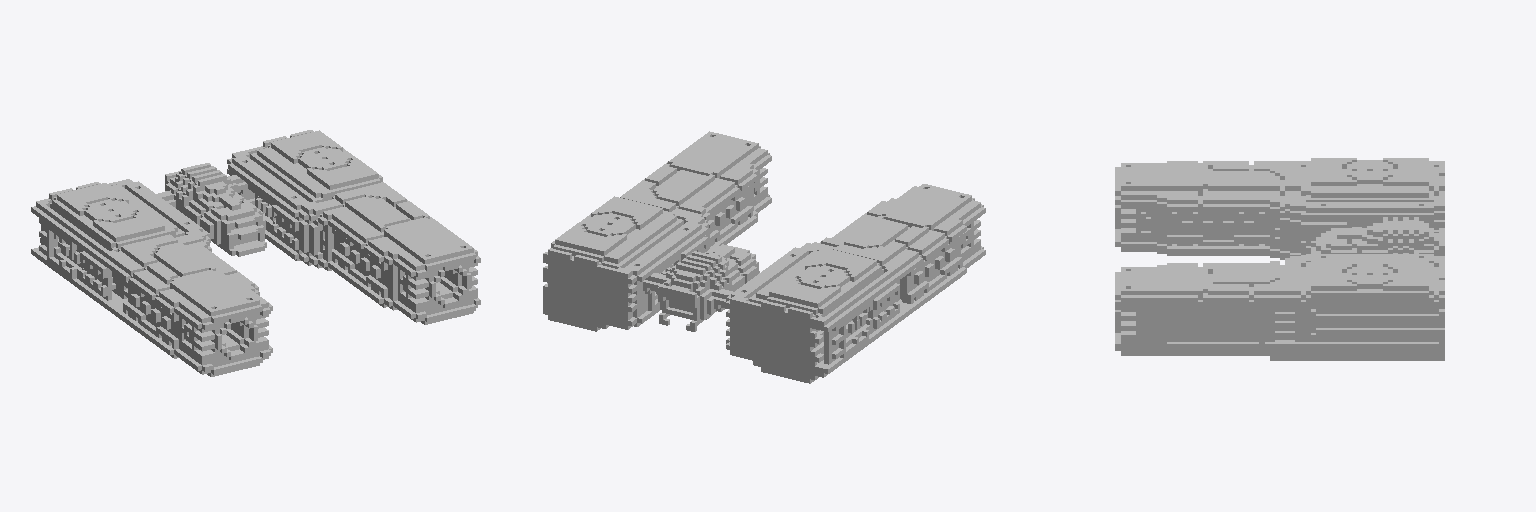
The model's file is DualStriker.obj.
3 views of the same model, side by side, from view 1: azimuth 30°, elevation 25°; view 2: azimuth 150°, elevation 25°; view 3: azimuth 270°, elevation 25° (orthographic).
Parts seen in each view (by area): view 1: object 1; view 2: object 1; view 3: object 1.
Part boxes in pixels (x1,y1,x2,y2): object 1: (31, 130, 480, 376); object 1: (543, 131, 985, 383); object 1: (1115, 158, 1444, 360).
Bounding box in the file's own units: 25.6 × 6.4 × 25.6.